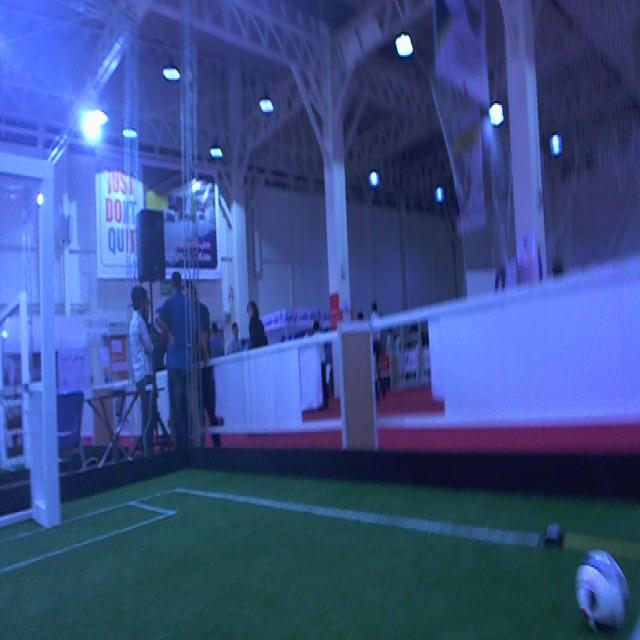ball: (572, 546, 628, 636)
goalpost: (37, 160, 60, 528)
